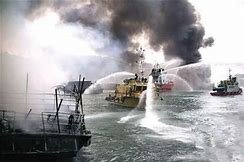smoke: (62, 1, 213, 62)
